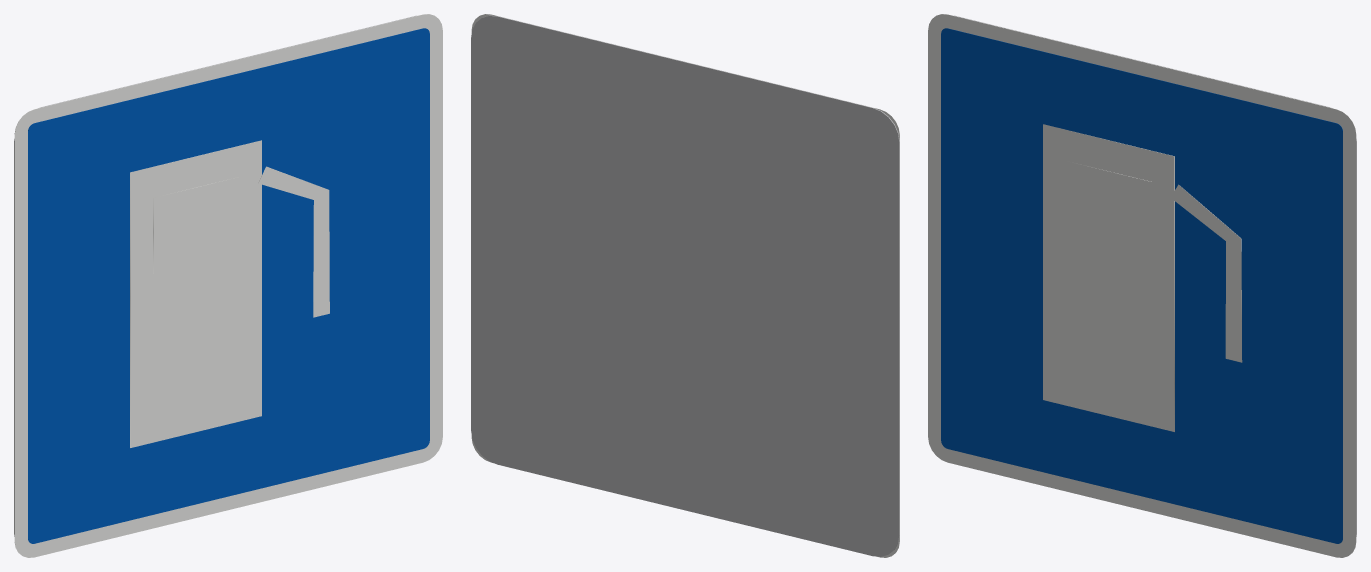
3 views of the same model, side by side, from view 1: azimuth 30°, elevation 25°; view 2: azimuth 150°, elevation 25°; view 3: azimuth 330°, elevation 25° (orthographic).
Parts seen in each view (by area): view 1: CE15_r01, CE15_p02, CE15_r00, CE15_p03, CE15_p04, CE15_dos; view 2: CE15_dos, CE15_r00; view 3: CE15_r01, CE15_p02, CE15_r00, CE15_p03, CE15_p04, CE15_dos.
Boxes of the visible parts, x1,y1,x2,y2 form: CE15_r01: (28, 28, 429, 543); CE15_p02: (130, 140, 261, 447); CE15_r00: (14, 14, 442, 557); CE15_p03: (153, 177, 238, 273); CE15_p04: (258, 166, 329, 317); CE15_dos: (14, 15, 416, 536); CE15_dos: (471, 15, 899, 556); CE15_r00: (471, 14, 899, 557); CE15_r01: (941, 28, 1342, 543); CE15_p02: (1043, 124, 1174, 431); CE15_r00: (928, 14, 1356, 557); CE15_p03: (1066, 161, 1151, 257); CE15_p04: (1170, 184, 1242, 362); CE15_dos: (954, 15, 1356, 536).
Size of the model in its own units: 0.65 by 0.65 by 0.0033.
